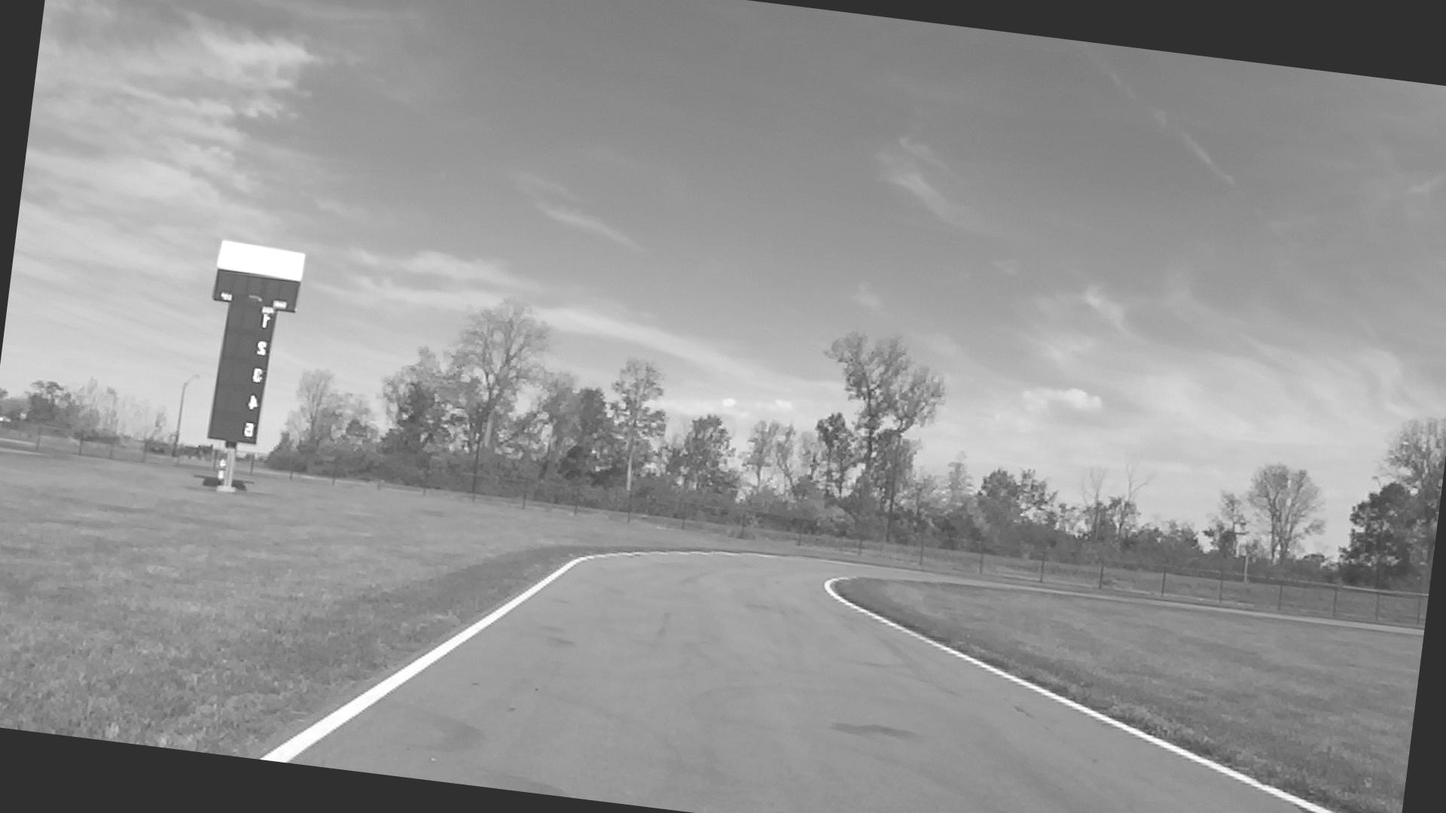white-line: (825, 576, 1338, 813), (258, 551, 716, 763)
